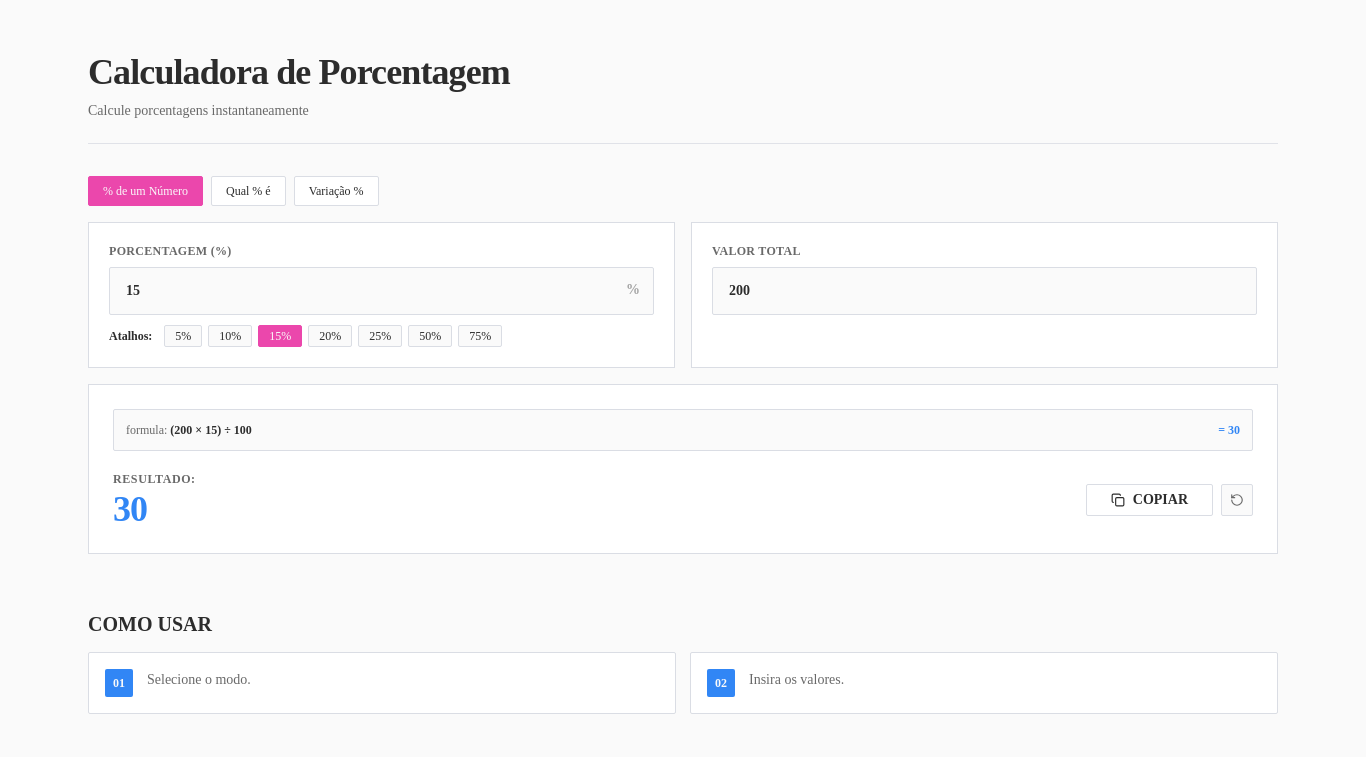
PercentageCalculatorClient › clears inputs when clear button is clicked
Click the button named "Limpar".
click(1237, 500)  # box [1221,484,1253,516]
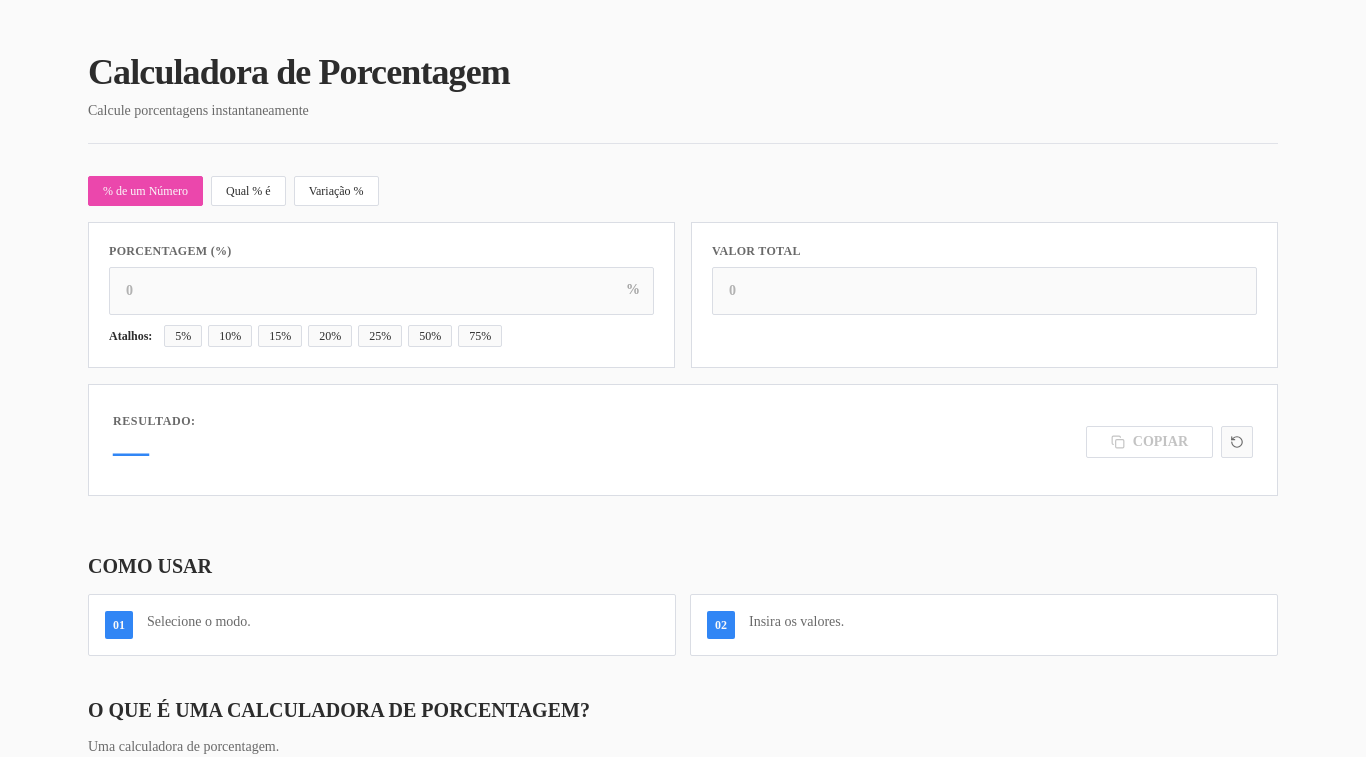
Expected: the text with test id "percentage-result" reads "—", [113,431,148,471]
